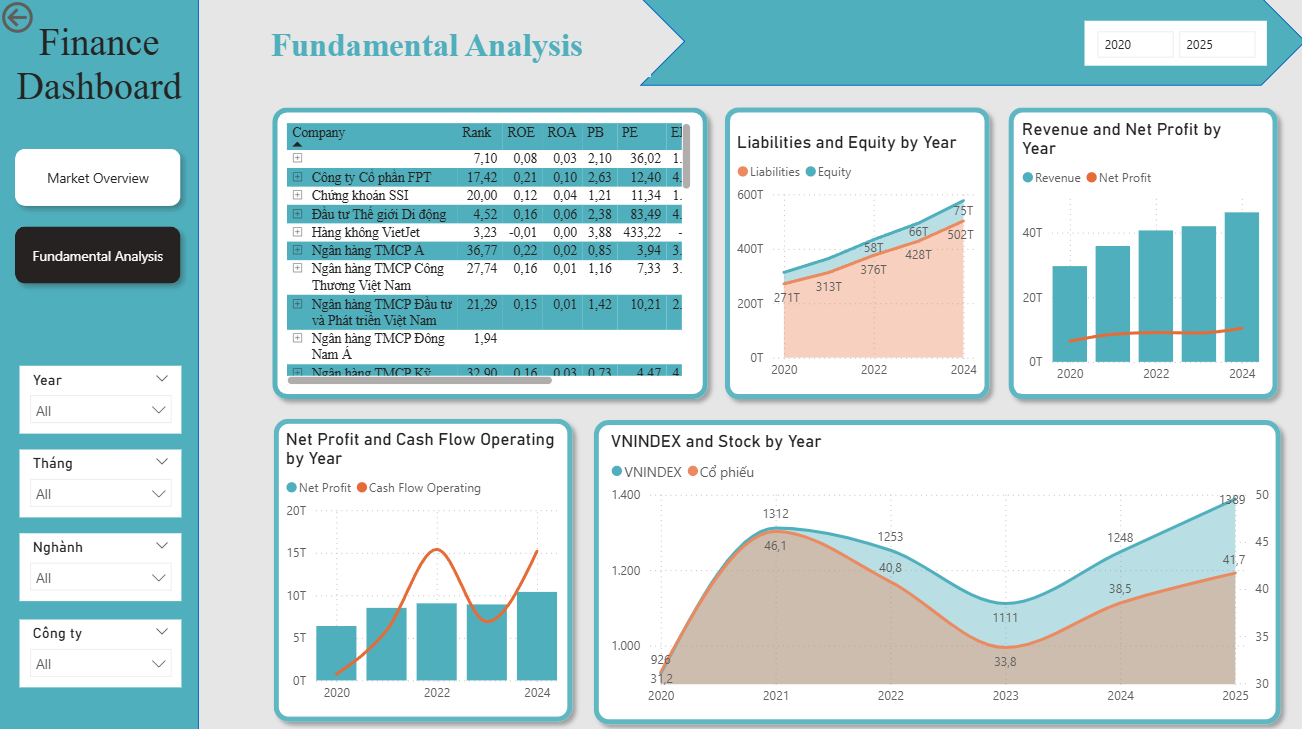

The page's visual inventory and layout, read from the dashboard file:
{"tool":"powerbi","page":{"name":"Fundamental Analysis","canvas":[1280,720],"ordinal":1},"visuals":[{"type":"shape","box":[0,0,197.6,720.7],"z":0,"group":"g3"},{"type":"shape","box":[260.2,98.8,443.8,303.3],"z":0,"group":"g2"},{"type":"group","id":"g1","title":"Group 3","box":[574.9,404.1,690.1,315.8],"z":0},{"type":"shape","box":[574.9,404.1,690.1,315.8],"z":0,"group":"g1"},{"type":"group","id":"g2","title":"Group 4","box":[260.2,98.8,443.8,303.3],"z":1000},{"type":"pivotTable","fields":{"Values":["KeyMeasures.Composite_Rank_Total","Avg(fact_financial_ratio.roe)","Avg(fact_financial_ratio.roa)","Avg(fact_financial_ratio.pb)","Avg(fact_financial_ratio.pe)","Avg(fact_financial_ratio.eps)","Avg(fact_financial_ratio.bvps)"],"Rows":["dim_company_info.ten_cong_ty","Dim_Date.Year"]},"box":[278,118.9,404.9,266.1],"z":1000,"group":"g2"},{"type":"lineChart","title":"VNINDEX and Stock by Year","fields":{"Y":["Avg(fact_market_index.close)"],"Category":["Dim_Date.Year"],"Y2":["Avg(fact_stock_price.close)"]},"box":[595.9,423.4,653.9,276.9],"z":1000,"group":"g1"},{"type":"shape","box":[628.5,0,651.8,86.8],"z":2000},{"type":"textbox","box":[12.5,16.7,175.3,140.5],"z":2000,"group":"g3"},{"type":"group","id":"g3","title":"Group 1","box":[0,0,197.6,720.7],"z":3000},{"type":"pageNavigator","box":[8.3,139.1,180.9,150.3],"z":3000,"group":"g3"},{"type":"slicer","fields":{"Values":["dim_company_info.ten_cong_ty"]},"box":[22.3,609.4,158.6,66.8],"z":3500,"group":"g3"},{"type":"slicer","fields":{"Values":["Dim_Date.Year"]},"box":[1063.9,23.2,178.5,44],"z":4000},{"type":"slicer","fields":{"Values":["dim_company_info.nganh"]},"box":[22.3,524.5,158.6,66.8],"z":4000,"group":"g3"},{"type":"slicer","fields":{"Values":["Dim_Date.Month Name"]},"box":[22.3,442.4,158.6,66.8],"z":4500,"group":"g3"},{"type":"textbox","box":[262.9,23.2,376.6,55],"z":5000},{"type":"slicer","fields":{"Values":["Dim_Date.Year"]},"box":[22.3,360.3,158.6,66.8],"z":5000,"group":"g3"},{"type":"actionButton","box":[0,0,100,40],"z":6000},{"type":"shape","box":[703.7,99.2,276.9,303.3],"z":7000,"group":"g5"},{"type":"group","id":"g4","title":"Group 2","box":[262.2,403.8,310.3,314.4],"z":7000},{"type":"shape","box":[980.9,98.8,281,303.3],"z":8000,"group":"g6"},{"type":"group","id":"g5","title":"Group 5","box":[703.7,99.2,276.9,303.3],"z":8000},{"type":"group","id":"g6","title":"Group 6","box":[980.9,98.8,281,303.3],"z":9000},{"type":"shape","box":[262.2,403.8,310.3,314.4],"z":9000,"group":"g4"},{"type":"stackedAreaChart","fields":{"Category":["Dim_Date.Year"],"Y":["Avg(fact_balance_sheet.no_phai_tra_dong)","Avg(fact_balance_sheet.von_chu_so_huu_dong)"]},"box":[719.1,132.8,244.6,251],"z":10000,"group":"g5"},{"type":"lineClusteredColumnComboChart","fields":{"Category":["Dim_Date.Year"],"Y":["Avg(fact_income_statement.loi_nhuan_sau_thue_cua_co_dong_cong_ty_me_dong)"],"Y2":["Avg(fact_cash_flow.luu_chuyen_tien_thuan_trong_ky)"]},"box":[278.7,422.1,275.5,276.9],"z":11000,"group":"g4"},{"type":"lineClusteredColumnComboChart","fields":{"Category":["Dim_Date.Year"],"Y2":["Avg(fact_income_statement.loi_nhuan_sau_thue_cua_co_dong_cong_ty_me_dong)"],"Y":["Avg(fact_income_statement.doanh_thu_thuan)"]},"box":[997.8,118.6,242.1,268.5],"z":12000,"group":"g6"}]}

Visuals, with their boxes in screenshot pixels (x1, y1, x2, y2), scaled from the page's 1280x720 canvas onto the 1302x729 screenshot:
shape: (left=0, top=0, right=201, bottom=728)
shape: (left=265, top=100, right=716, bottom=407)
"Group 3" group: (left=585, top=409, right=1287, bottom=728)
shape: (left=585, top=409, right=1287, bottom=728)
"Group 4" group: (left=265, top=100, right=716, bottom=407)
pivotTable - KeyMeasures.Composite_Rank_Total x Avg(fact_financial_ratio.roe): (left=283, top=120, right=695, bottom=390)
"VNINDEX and Stock by Year" lineChart: (left=606, top=429, right=1271, bottom=709)
shape: (left=639, top=0, right=1301, bottom=88)
textbox: (left=13, top=17, right=191, bottom=159)
"Group 1" group: (left=0, top=0, right=201, bottom=728)
pageNavigator: (left=8, top=141, right=192, bottom=293)
slicer - dim_company_info.ten_cong_ty: (left=23, top=617, right=184, bottom=685)
slicer - Dim_Date.Year: (left=1082, top=23, right=1264, bottom=68)
slicer - dim_company_info.nganh: (left=23, top=531, right=184, bottom=599)
slicer - Dim_Date.Month Name: (left=23, top=448, right=184, bottom=516)
textbox: (left=267, top=23, right=650, bottom=79)
slicer - Dim_Date.Year: (left=23, top=365, right=184, bottom=432)
actionButton: (left=0, top=0, right=102, bottom=40)
shape: (left=716, top=100, right=997, bottom=408)
"Group 2" group: (left=267, top=409, right=582, bottom=727)
shape: (left=998, top=100, right=1284, bottom=407)
"Group 5" group: (left=716, top=100, right=997, bottom=408)
"Group 6" group: (left=998, top=100, right=1284, bottom=407)
shape: (left=267, top=409, right=582, bottom=727)
stackedAreaChart - Dim_Date.Year x Avg(fact_balance_sheet.no_phai_tra_dong): (left=731, top=134, right=980, bottom=389)
lineClusteredColumnComboChart - Dim_Date.Year x Avg(fact_income_statement.loi_nhuan_sau_thue_cua_co_dong_cong_ty_me_dong): (left=283, top=427, right=564, bottom=708)
lineClusteredColumnComboChart - Dim_Date.Year x Avg(fact_income_statement.loi_nhuan_sau_thue_cua_co_dong_cong_ty_me_dong): (left=1015, top=120, right=1261, bottom=392)
